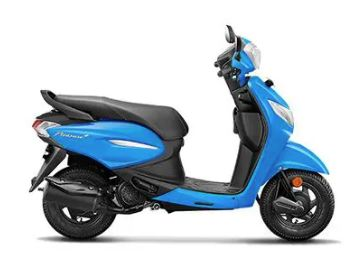bike: (28, 22, 334, 242)
